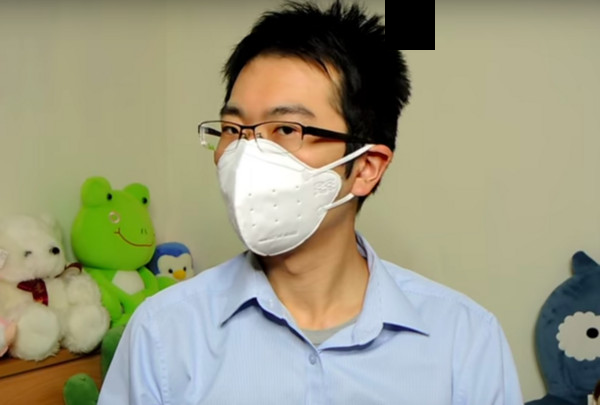with_mask: (213, 100, 346, 260)
